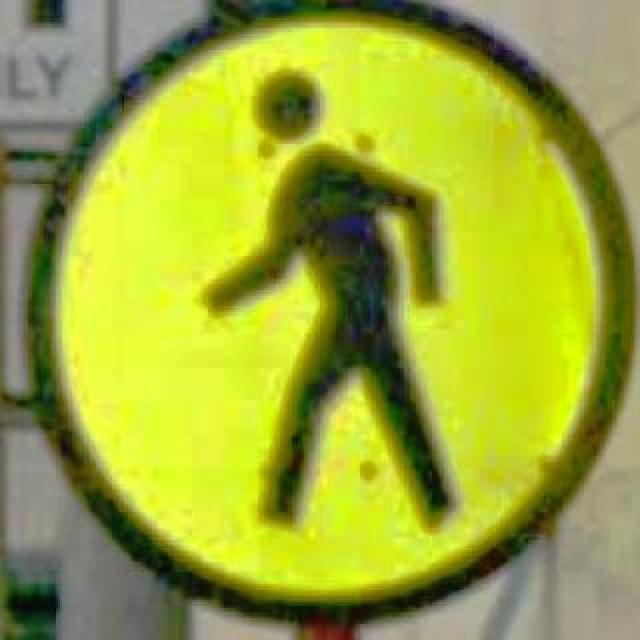pedestrian crossing: (18, 0, 634, 632)
